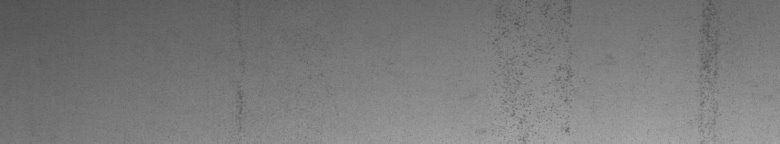ib: (487, 4, 575, 133)
